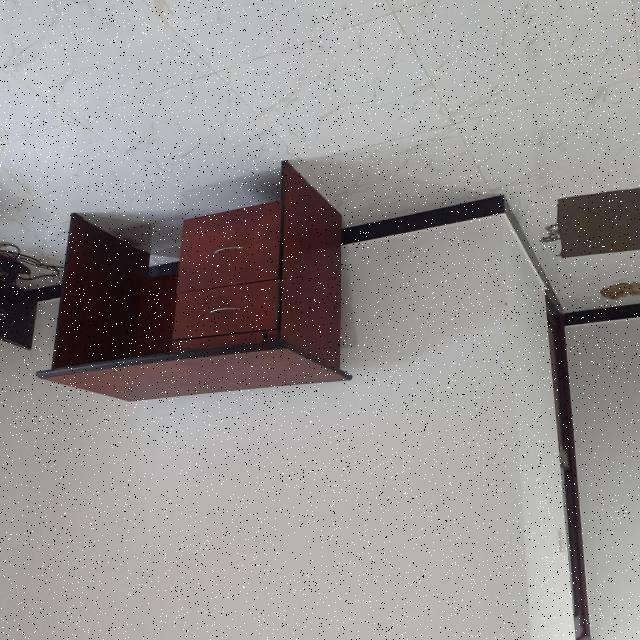mobile-phone: (37, 155, 353, 403)
